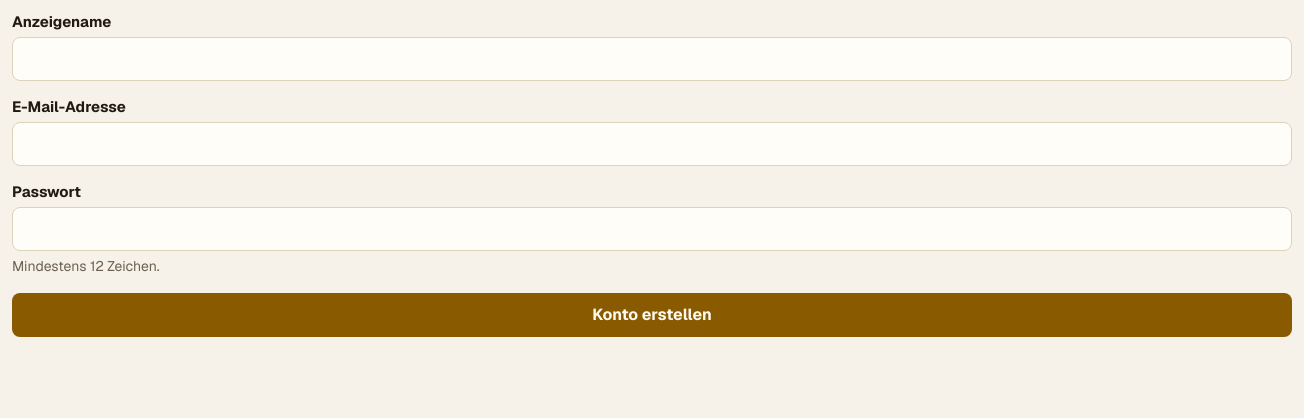
Test case: RegisterForm › renders safe server field and general errors accessibly
Type "Ada Spielerin" into the field labelled "Anzeigename".
click(652, 59); type("Ada Spielerin")  # box x1=12 y1=37 x2=1292 y2=81
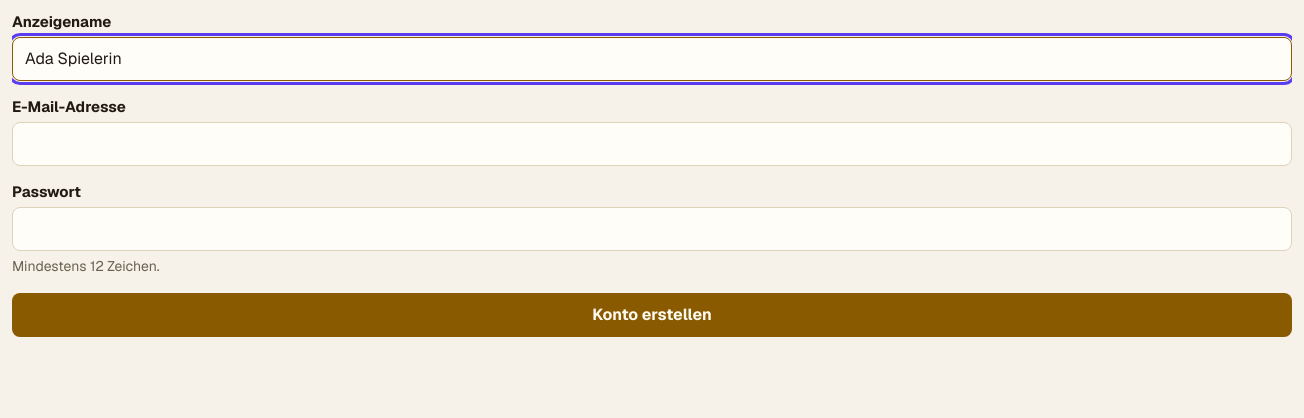
Type "ada.component@example.com" into the field labelled "E-Mail-Adresse".
click(652, 144); type("ada.component@example.com")  # box x1=12 y1=122 x2=1292 y2=166
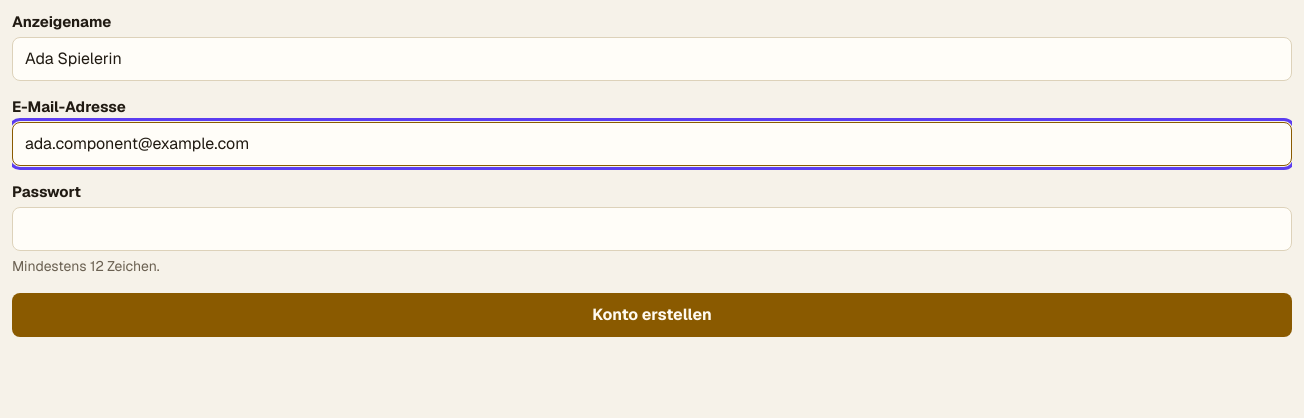
Type "correct horse battery staple" into the password field labelled "Passwort".
click(652, 229); type("correct horse battery staple")  # box x1=12 y1=207 x2=1292 y2=251
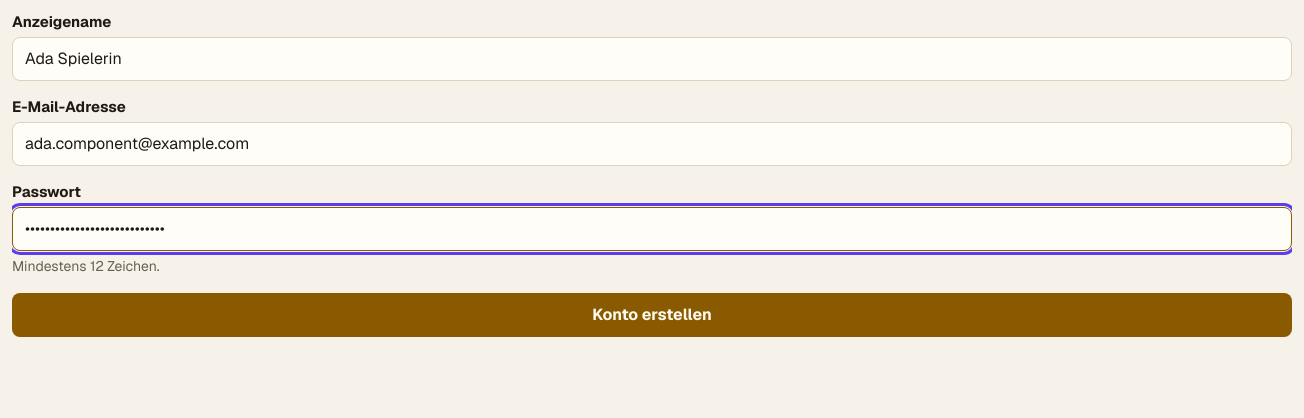
Click the button "Konto erstellen".
click(652, 315)  # box x1=12 y1=293 x2=1292 y2=337
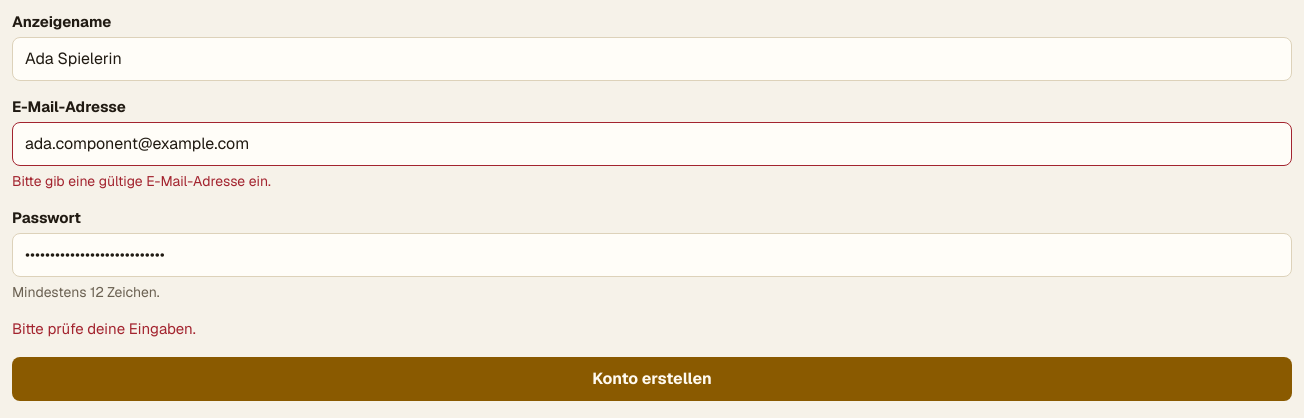
Check: the message reads "Bitte prüfe deine Eingaben.", box x1=12 y1=319 x2=196 y2=338
